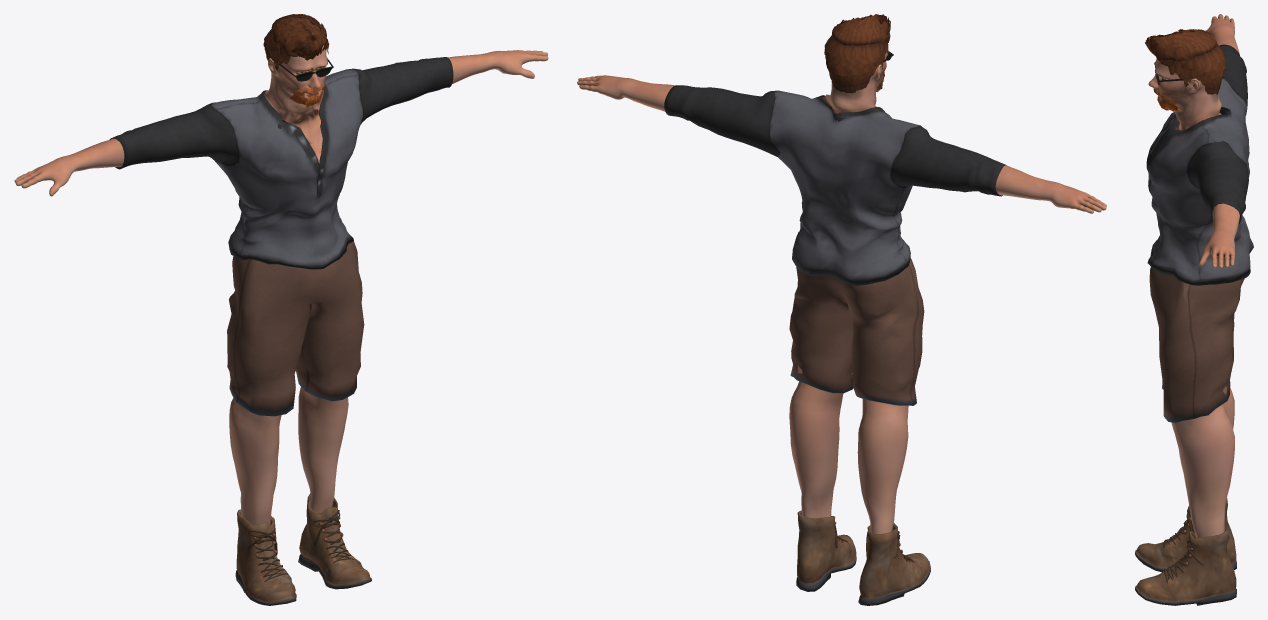
The model's file is Luke.fuse.obj.
3 renders of one model, left to right at view 1: azimuth 30°, elevation 25°; view 2: azimuth 150°, elevation 25°; view 3: azimuth 270°, elevation 25°, orthographic. The views are drawn at different scales.
Parts seen in each view (by area): view 1: Tops, Bottoms, Body, Shoes, Hair; view 2: Tops, Body, Bottoms, Shoes, Hair; view 3: Tops, Body, Bottoms, Shoes, Hair, Beards.
Boxes of the visible parts, x1,y1,x2,y2 form: Tops: (109, 57, 453, 269); Bottoms: (227, 241, 364, 416); Body: (14, 20, 548, 525); Shoes: (235, 493, 371, 605); Hair: (263, 14, 329, 69); Tops: (664, 85, 1005, 285); Body: (577, 36, 1106, 533); Bottoms: (789, 258, 924, 405); Shoes: (796, 510, 930, 605); Hair: (824, 14, 890, 93); Tops: (1146, 44, 1253, 285); Body: (1148, 14, 1239, 538); Bottoms: (1149, 267, 1244, 422); Shoes: (1135, 498, 1236, 605); Hair: (1145, 29, 1226, 94); Beards: (1157, 96, 1182, 112).
Size of the model in its own units: 2.21 by 2.24 by 0.4395.
Materials: 1 (1 with a texture image).
